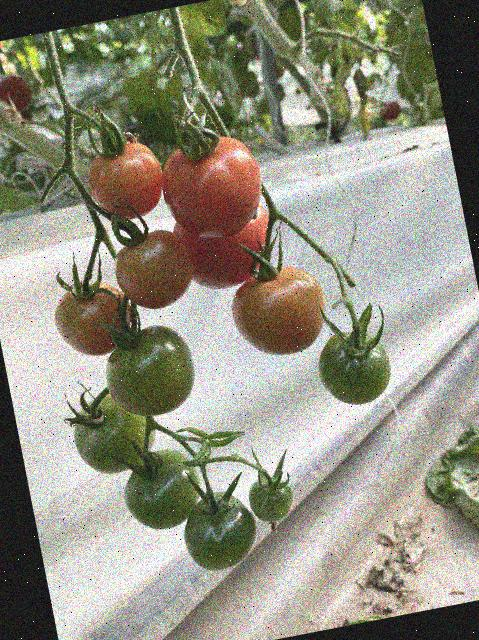l_fully_ripened: (153, 129, 270, 248), (170, 203, 281, 296)
l_green: (96, 318, 202, 425), (65, 388, 162, 480), (114, 444, 206, 535), (175, 485, 262, 575), (310, 323, 396, 411), (244, 474, 296, 525)
l_half_ripened: (224, 259, 332, 363), (105, 223, 199, 316), (80, 133, 170, 227), (46, 275, 138, 362)
